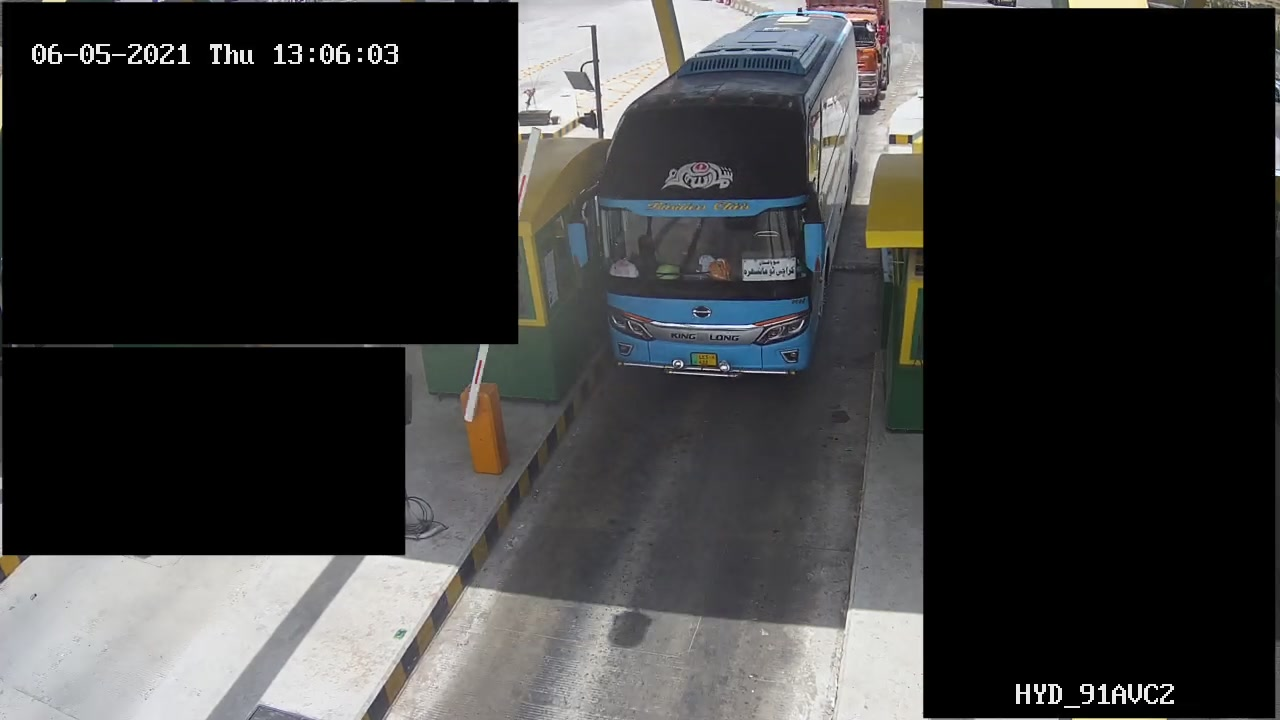F4: (593, 4, 866, 389)
